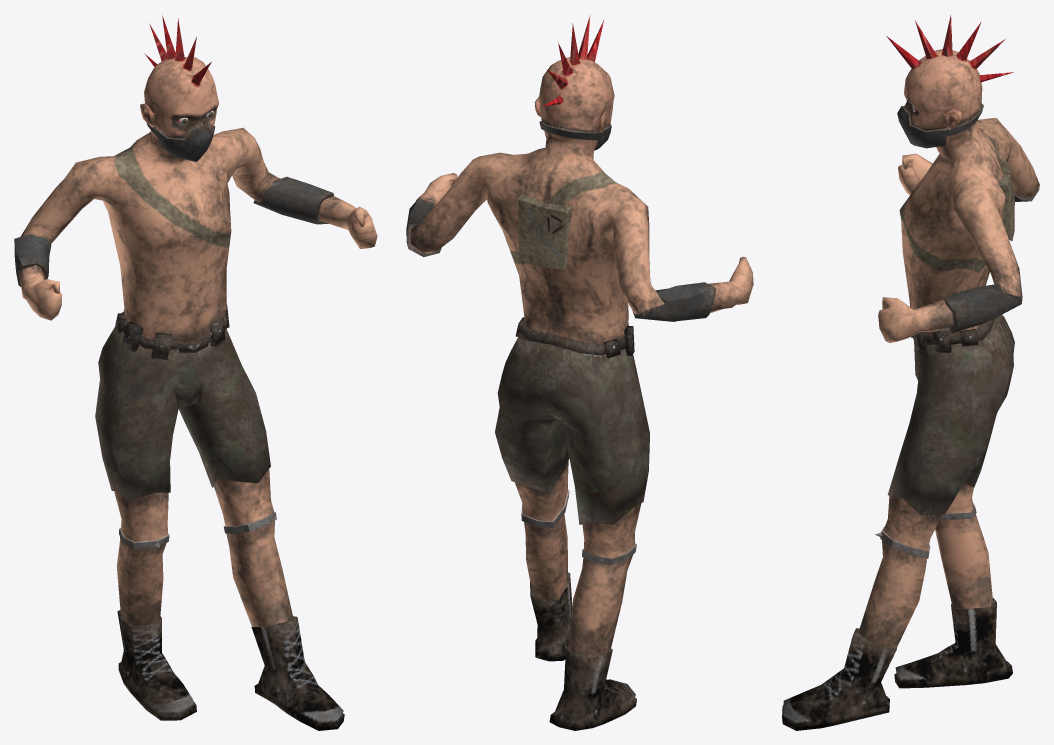
Rendered from Anim_ataque_d3_npc2.0050.obj.
3 views of the same model, side by side, from view 1: azimuth 30°, elevation 25°; view 2: azimuth 150°, elevation 25°; view 3: azimuth 270°, elevation 25° (orthographic).
Parts seen in each view (by area): view 1: polySurface1; view 2: polySurface1; view 3: polySurface1.
Boxes of the visible parts, box(x1,y1,x2,y2) form: polySurface1: box(14, 14, 377, 730); polySurface1: box(406, 15, 753, 730); polySurface1: box(782, 15, 1039, 730).
Size of the model in its own units: 5.18 by 10.2 by 3.5.
